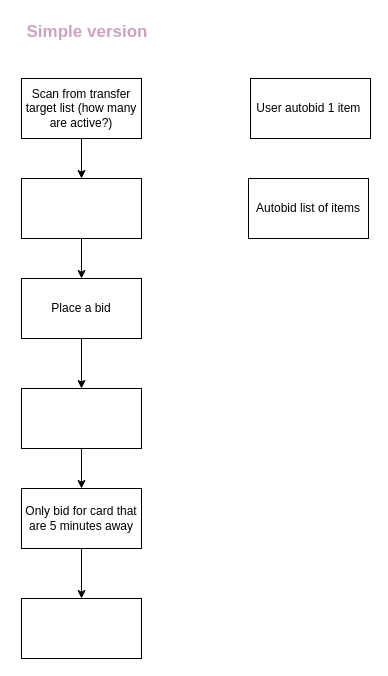
Some shapes in this 388 by 676 pixel diagram are drawn without their labels. The shapes that lost their labels are listed below. From the top down, each one's centre as x and y in pixels, then its label:
At point 81,208: "Search from market".
At point 81,418: "Come back to the transfer target to win the bid".
At point 81,628: "after all card is completed, moving back to bid other one".
